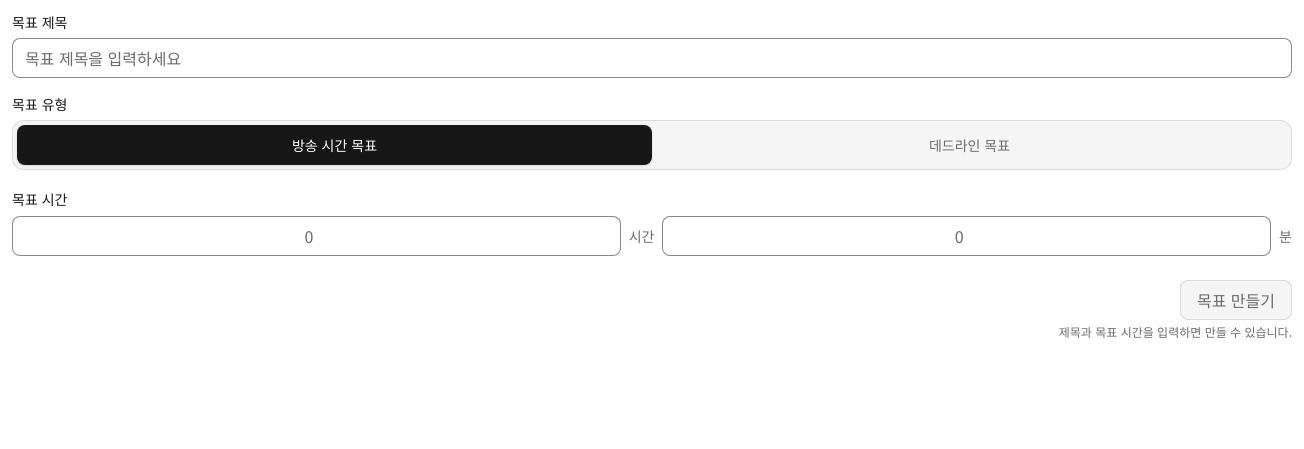
Scenario: GoalForm › 유형을 바꾸면 이전 유형의 오류가 사라진다
This screenshot has width=1304, height=449.
Type "오류 확인" into the field labelled "목표 제목" at (652, 58), box top-left (12, 38), bottom-right (1292, 78)
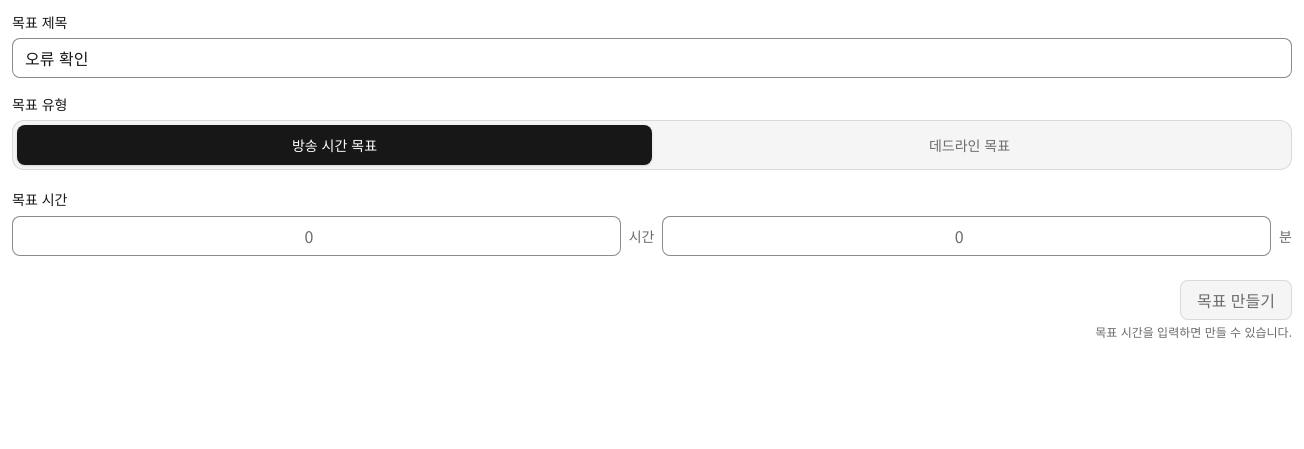
0은 버튼이 막으므로 제출 뒤 오류는 상한 초과로 만든다
Type "3000" into the number field named "시간" at (316, 236), box top-left (12, 216), bottom-right (621, 256)
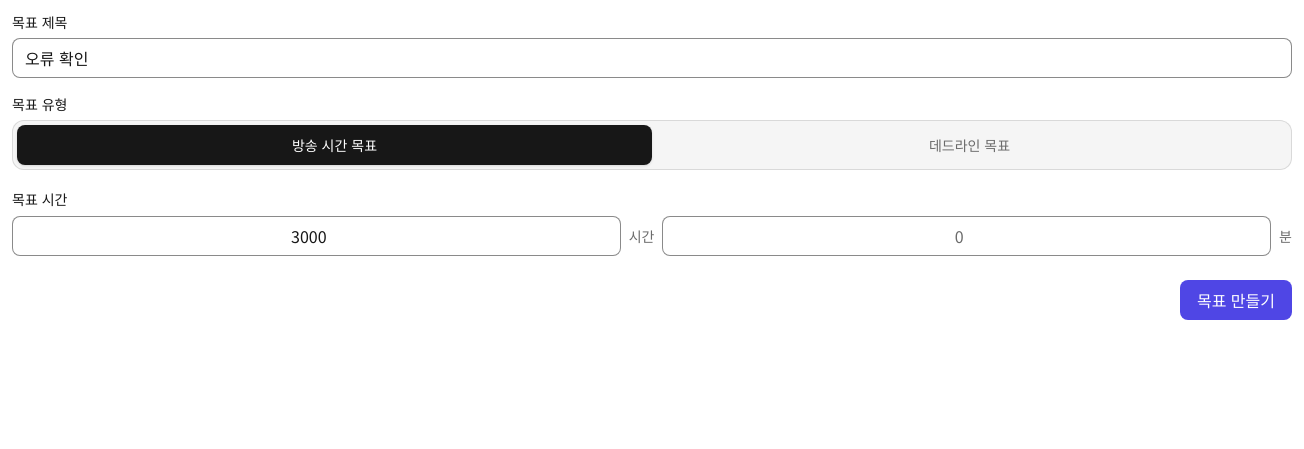
Click the button "목표 만들기" at (1236, 300), box top-left (1180, 280), bottom-right (1292, 320)
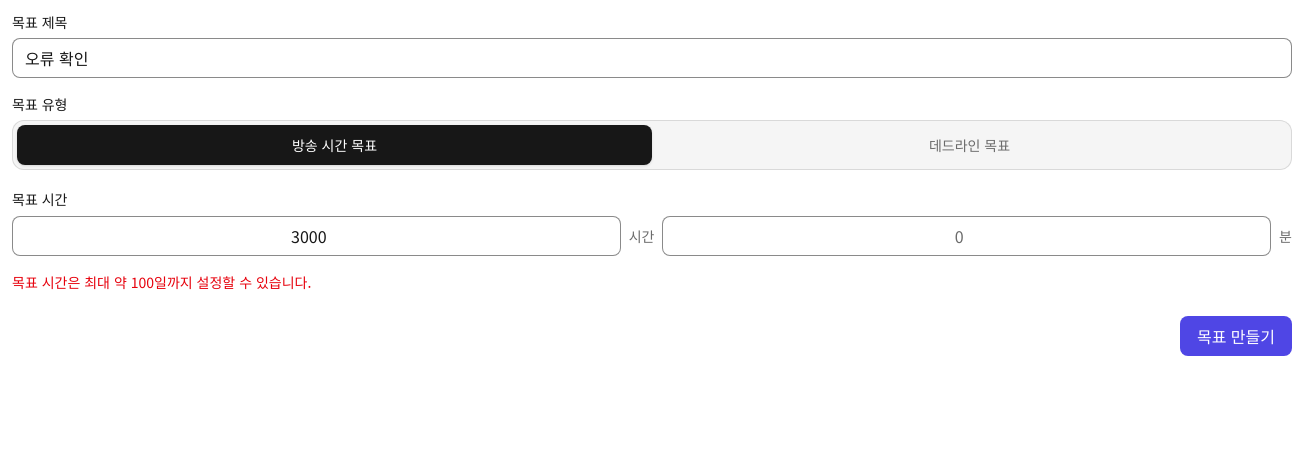
expect the message reads "목표 시간은 최대 약 100일까지 설정할 수 있습니다.": met, box top-left (12, 272), bottom-right (311, 292)
Click the radio button labelled "데드라인 목표" at (970, 145), box top-left (929, 135), bottom-right (1010, 155)
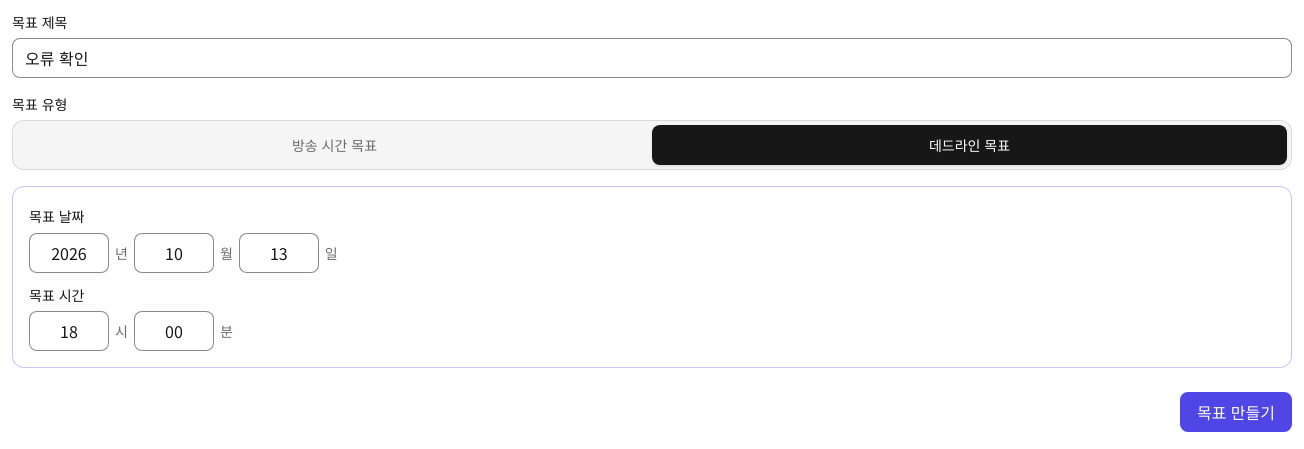
expect the message "목표 시간은 최대 약 100일까지 설정할 수 있습니다." is gone: met
